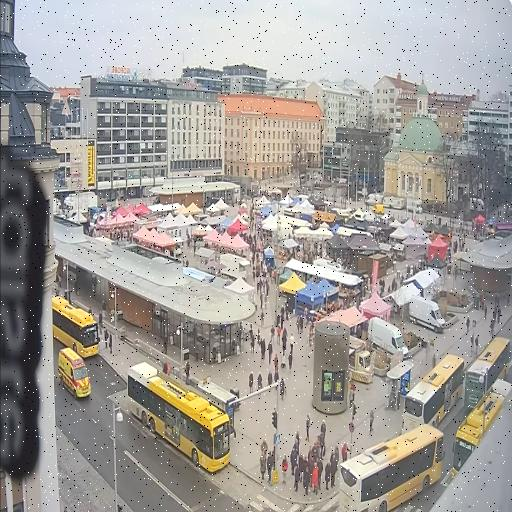bus: (127, 363, 229, 472), (339, 425, 443, 511), (401, 355, 463, 433), (451, 389, 503, 476), (463, 337, 509, 412), (51, 296, 99, 358)
delivery: (367, 317, 407, 359), (408, 296, 444, 332), (348, 336, 374, 383)
